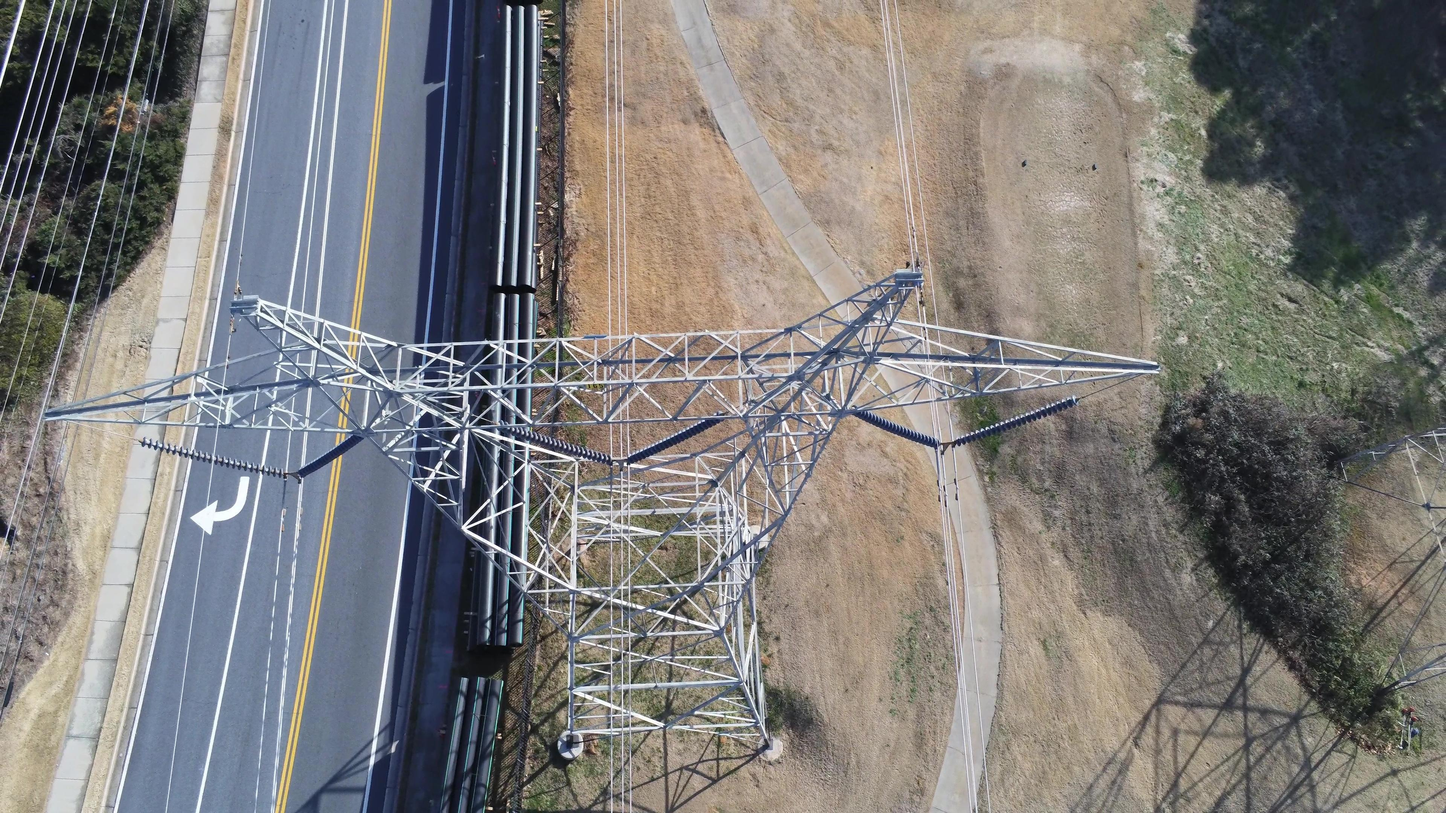power_tower: (46, 271, 1159, 745), (1323, 426, 1446, 698)
